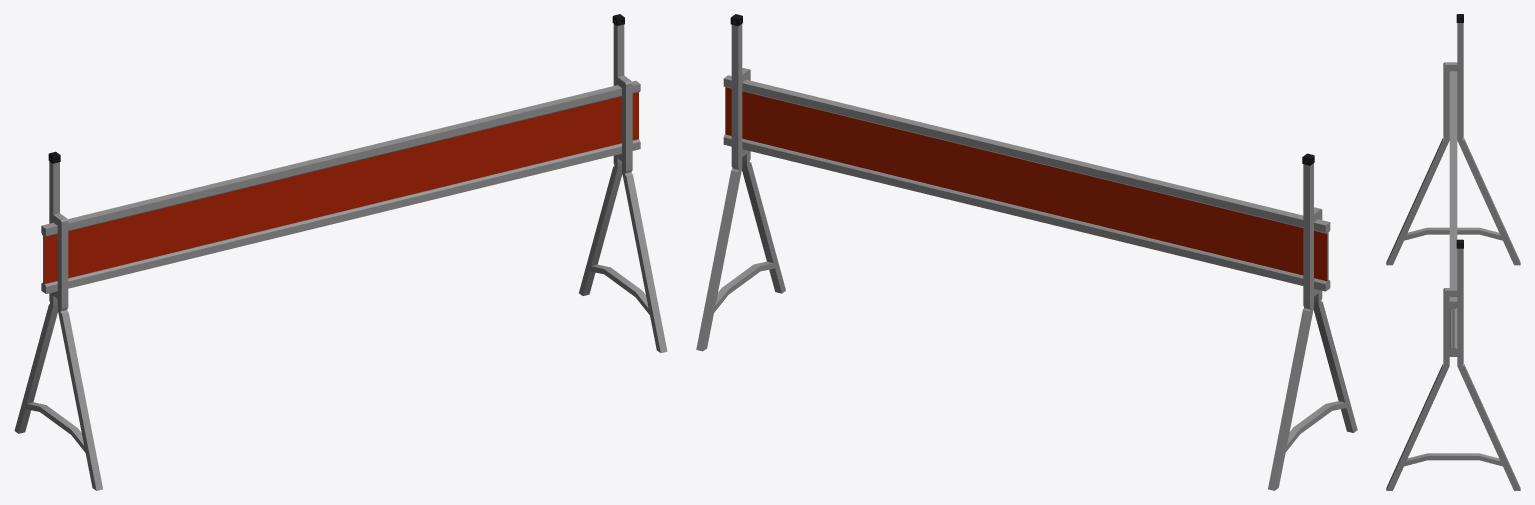
The model's file is Work in Progress.fbx.
The picture shows the model from 3 angles, left to right: view 1: azimuth 30°, elevation 25°; view 2: azimuth 150°, elevation 25°; view 3: azimuth 270°, elevation 25°; orthographic projection. The views are drawn at different scales.
Visible parts, largest first — view 1: Box001, Line001; view 2: Box001, Line001; view 3: Line001, Box001.
Part boxes in pixels (x1,y1,x2,y2): Box001: [41, 80, 640, 293]; Line001: [14, 14, 667, 490]; Box001: [723, 75, 1330, 291]; Line001: [696, 14, 1357, 490]; Line001: [1386, 14, 1520, 490]; Box001: [1449, 71, 1457, 355].
Size of the model in its own units: 179 by 87.17 by 42.75.
